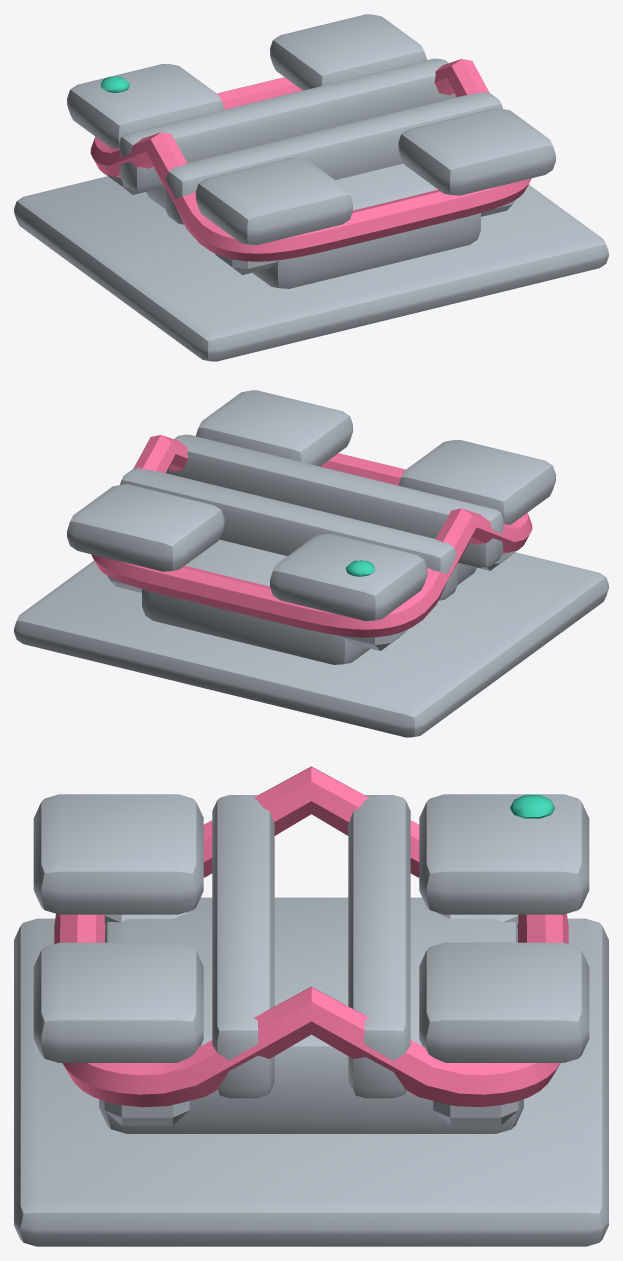
Rendered from bracket.glb.
3 renders of one model, top to bottom at view 1: azimuth 30°, elevation 25°; view 2: azimuth 150°, elevation 25°; view 3: azimuth 270°, elevation 25°, orthographic. The views are drawn at different scales.
Visible parts, largest first — view 1: bracket; view 2: bracket; view 3: bracket.
Boxes of the visible parts, x1,y1,x2,y2 form: bracket: [14, 14, 608, 361]; bracket: [14, 390, 608, 737]; bracket: [14, 766, 608, 1246].
Size of the model in its own units: 0.25 by 0.089 by 0.21.
